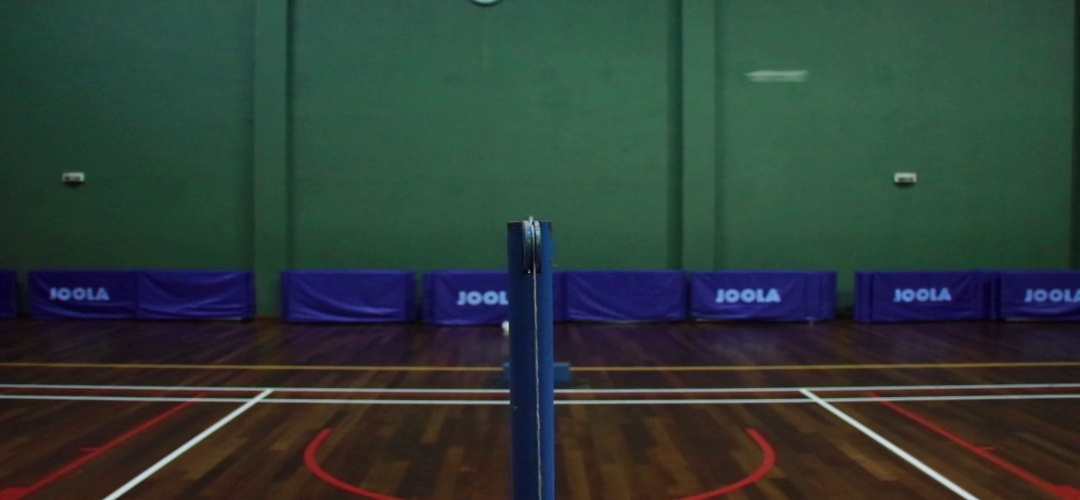c1: (235, 396, 274, 407)
c2: (789, 392, 848, 410)
net_level: (506, 221, 555, 294)
shuttle: (746, 64, 810, 89)
